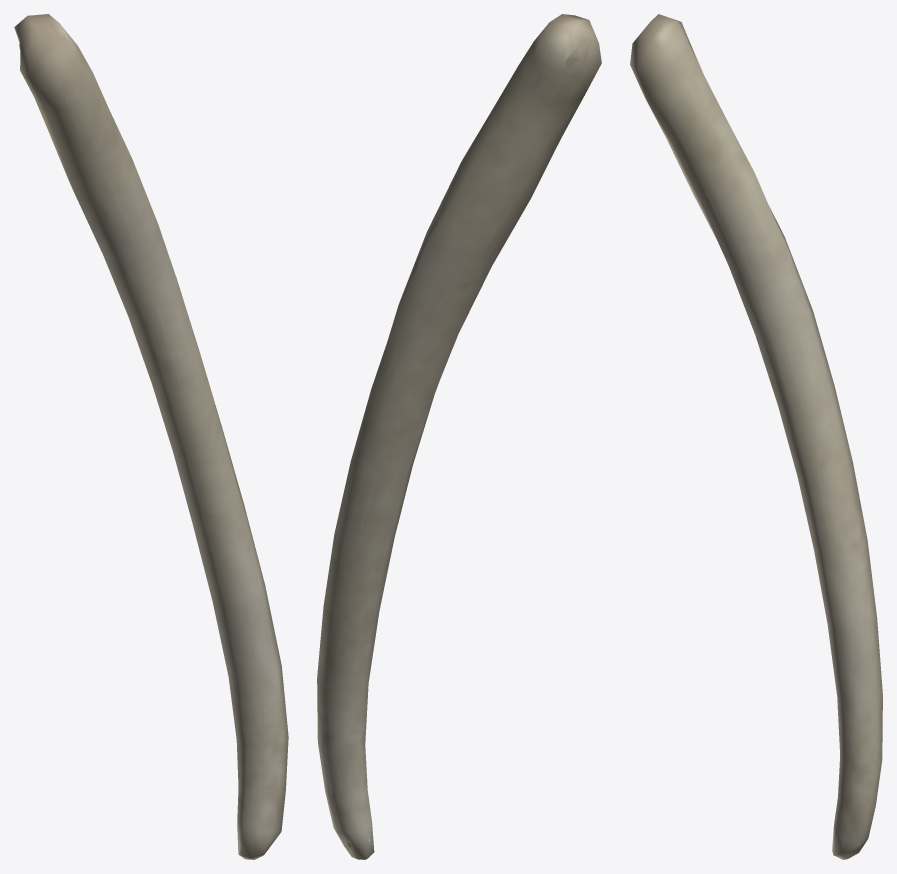
Rendered from Rib L02.fbx.
3 views of the same model, side by side, from view 1: azimuth 30°, elevation 25°; view 2: azimuth 150°, elevation 25°; view 3: azimuth 330°, elevation 25° (orthographic). The views are drawn at different scales.
Visible parts, largest first — view 1: Rib L02 low, Rib L02; view 2: Rib L02 low, Rib L02; view 3: Rib L02 low, Rib L02.
Boxes of the visible parts, x1,y1,x2,y2 form: Rib L02 low: [14, 14, 288, 859]; Rib L02: [19, 29, 283, 842]; Rib L02 low: [317, 14, 601, 859]; Rib L02: [323, 17, 579, 849]; Rib L02 low: [630, 14, 882, 859]; Rib L02: [652, 30, 876, 828].
Size of the model in its own units: 1.56 by 4.97 by 0.5224.
Materials: 1 (1 with a texture image).
